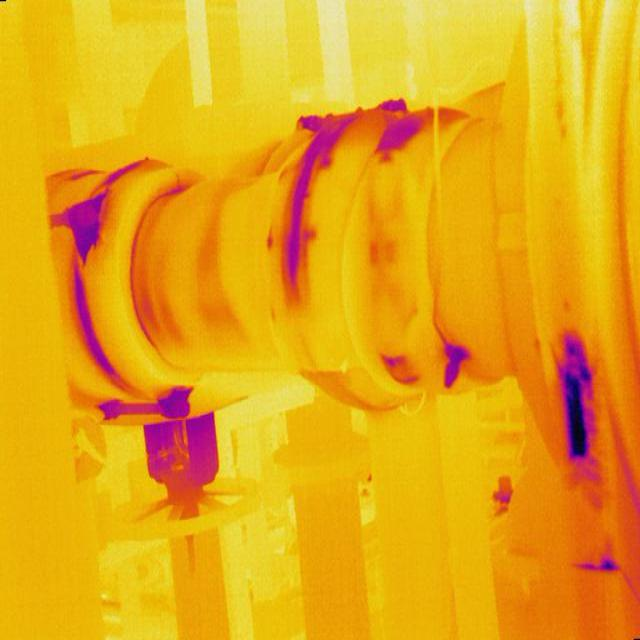leakage: (63, 254, 128, 400), (283, 113, 331, 307), (555, 323, 611, 466), (131, 226, 180, 335), (54, 187, 115, 256), (193, 228, 233, 315), (374, 104, 424, 164), (374, 336, 420, 394), (366, 227, 409, 280), (438, 335, 466, 393), (106, 158, 133, 180)
